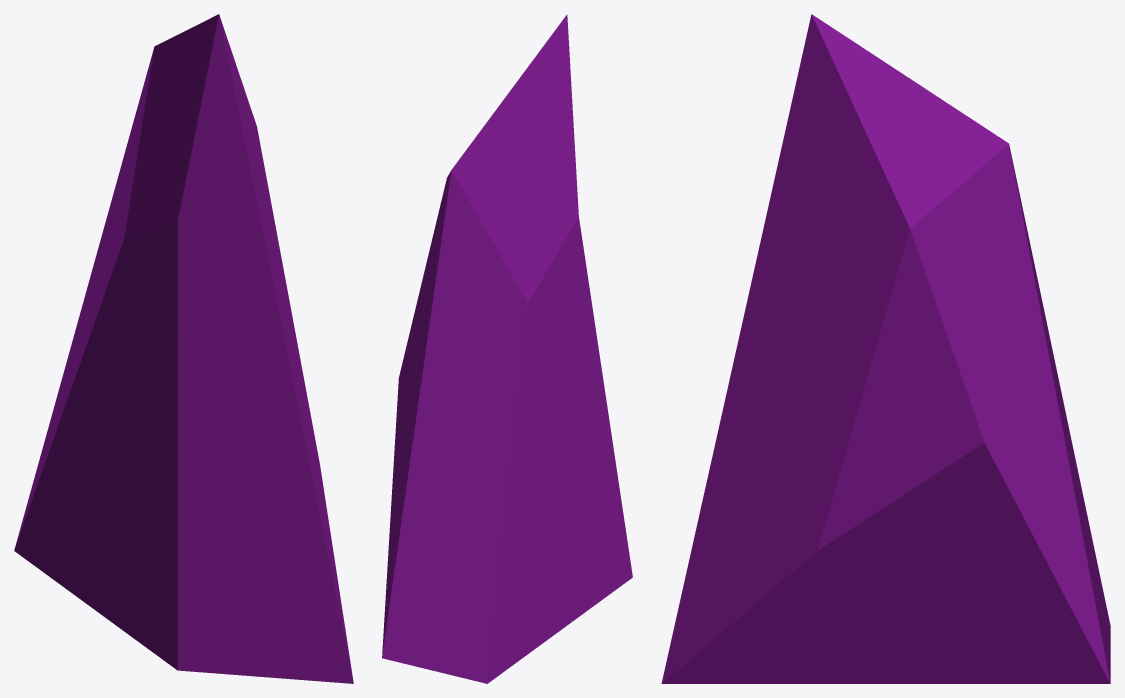
File: GemStone02.fbx
3 views of the same model, side by side, from view 1: azimuth 30°, elevation 25°; view 2: azimuth 150°, elevation 25°; view 3: azimuth 270°, elevation 25° (orthographic). The views are drawn at different scales.
Visible parts, largest first — view 1: Icosphere.001; view 2: Icosphere.001; view 3: Icosphere.001.
Boxes of the visible parts, x1,y1,x2,y2 form: Icosphere.001: [14, 14, 353, 683]; Icosphere.001: [382, 14, 632, 683]; Icosphere.001: [661, 14, 1110, 683].
Size of the model in its own units: 33.13 by 124 by 78.57.
